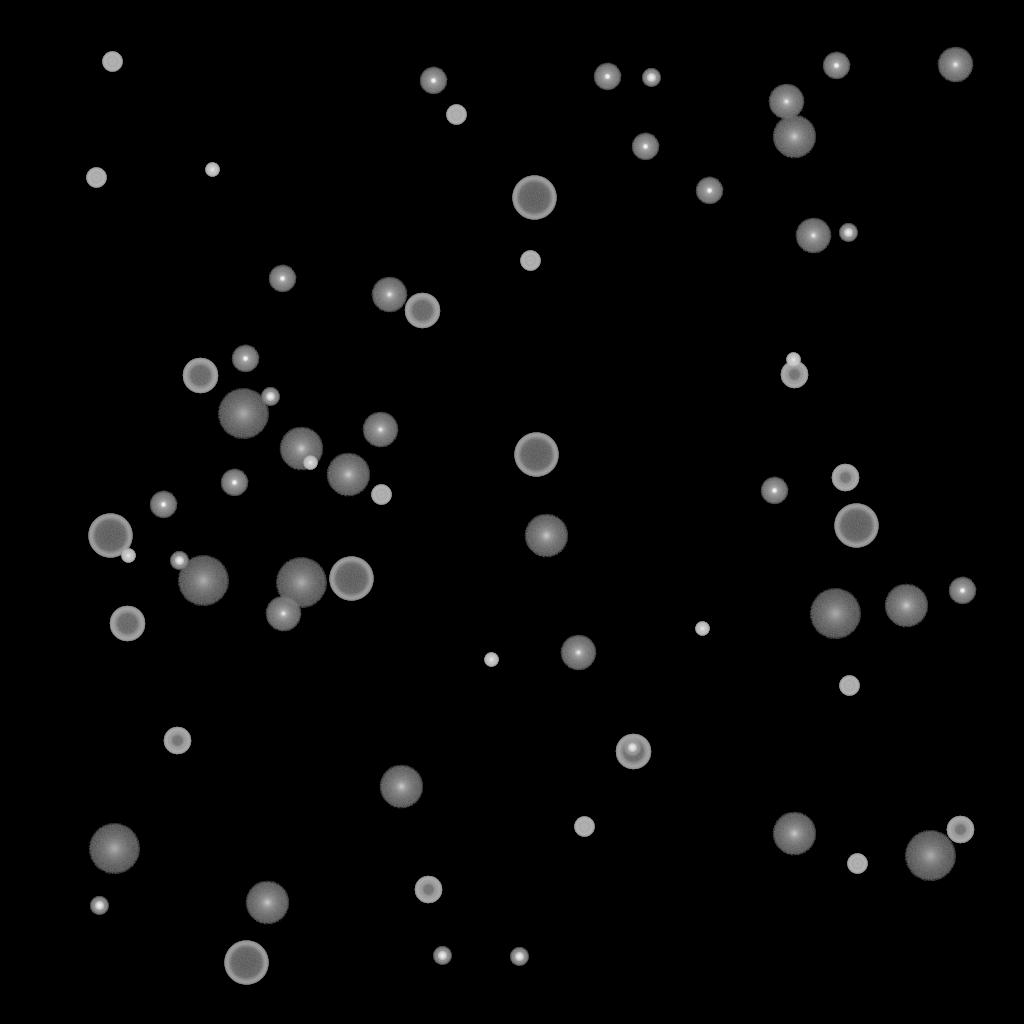depth:-10: (220, 469, 248, 497), (593, 63, 621, 91), (631, 133, 659, 161), (231, 345, 259, 373), (149, 491, 177, 519), (268, 265, 296, 293), (822, 52, 850, 80), (695, 177, 723, 205), (419, 67, 447, 95), (948, 577, 976, 605), (760, 477, 788, 505)
depth:-20: (261, 388, 279, 406), (642, 69, 660, 87), (510, 948, 528, 966), (90, 897, 108, 915), (433, 947, 451, 965), (839, 224, 857, 242), (623, 739, 641, 757), (170, 552, 188, 570)
depth:-30: (205, 163, 219, 177), (786, 353, 800, 367), (484, 653, 498, 667), (121, 549, 135, 563), (695, 622, 709, 636), (303, 456, 317, 470)
depth:-40: (102, 52, 122, 72), (847, 854, 867, 874), (520, 251, 540, 271), (446, 105, 466, 125), (86, 168, 106, 188), (371, 485, 391, 505), (574, 817, 594, 837), (839, 676, 859, 696)
depth:-50: (414, 876, 442, 904), (780, 361, 808, 389), (163, 727, 191, 755), (946, 816, 974, 844), (831, 464, 859, 492)
depth:-60: (615, 734, 651, 770), (109, 606, 145, 642), (404, 293, 440, 329), (182, 358, 218, 394)
depth:-70: (224, 941, 268, 985), (329, 557, 373, 601), (88, 514, 132, 558), (834, 504, 878, 548), (514, 433, 558, 477), (512, 176, 556, 220)
depth:0: (362, 412, 398, 448), (937, 47, 973, 83), (560, 635, 596, 671), (265, 596, 301, 632), (795, 218, 831, 254), (371, 277, 407, 313), (768, 84, 804, 120)
depth:10: (245, 881, 289, 925), (279, 427, 323, 471), (884, 584, 928, 628), (772, 812, 816, 856), (326, 453, 370, 497), (379, 765, 423, 809), (772, 115, 816, 159), (524, 514, 568, 558)
depth:20: (809, 589, 861, 639), (904, 831, 956, 881), (177, 556, 229, 606), (88, 824, 140, 874), (275, 558, 327, 608), (217, 389, 269, 439)
